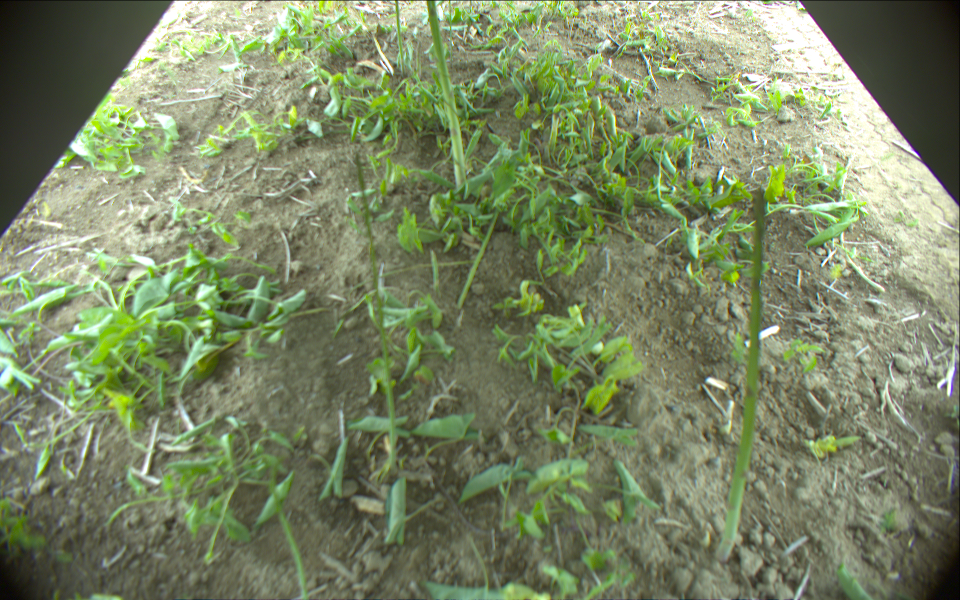aspa: (716, 187, 767, 560), (354, 151, 400, 474), (426, 1, 468, 189), (454, 206, 500, 313), (394, 1, 408, 76), (415, 39, 425, 77)
